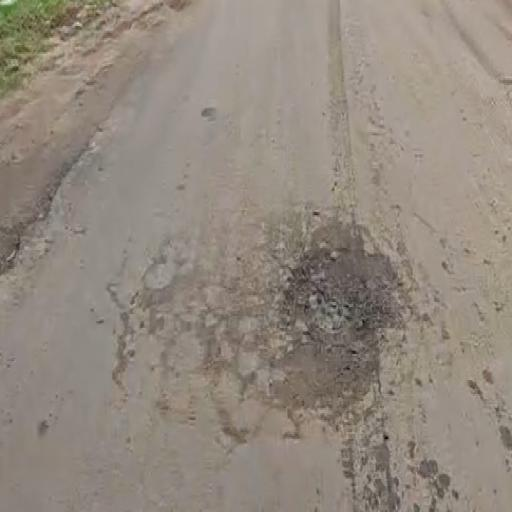alligator_crack: (85, 198, 285, 459)
pothole: (291, 224, 416, 443)
